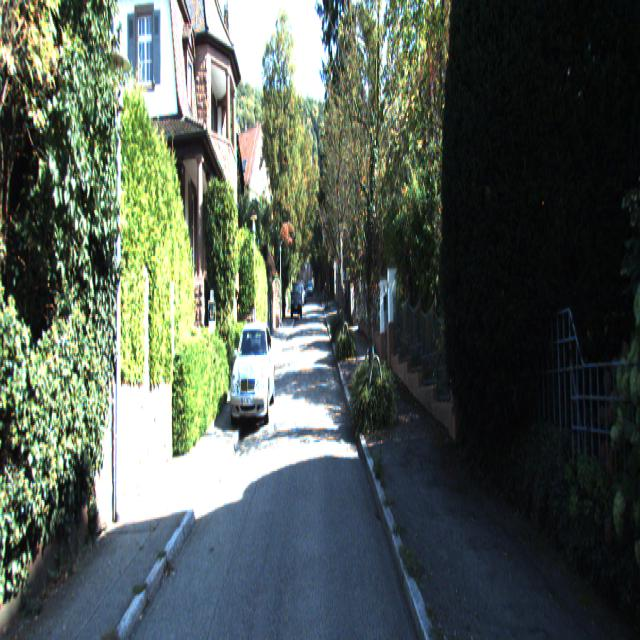Car: (229, 322, 275, 432), (290, 281, 302, 321)
